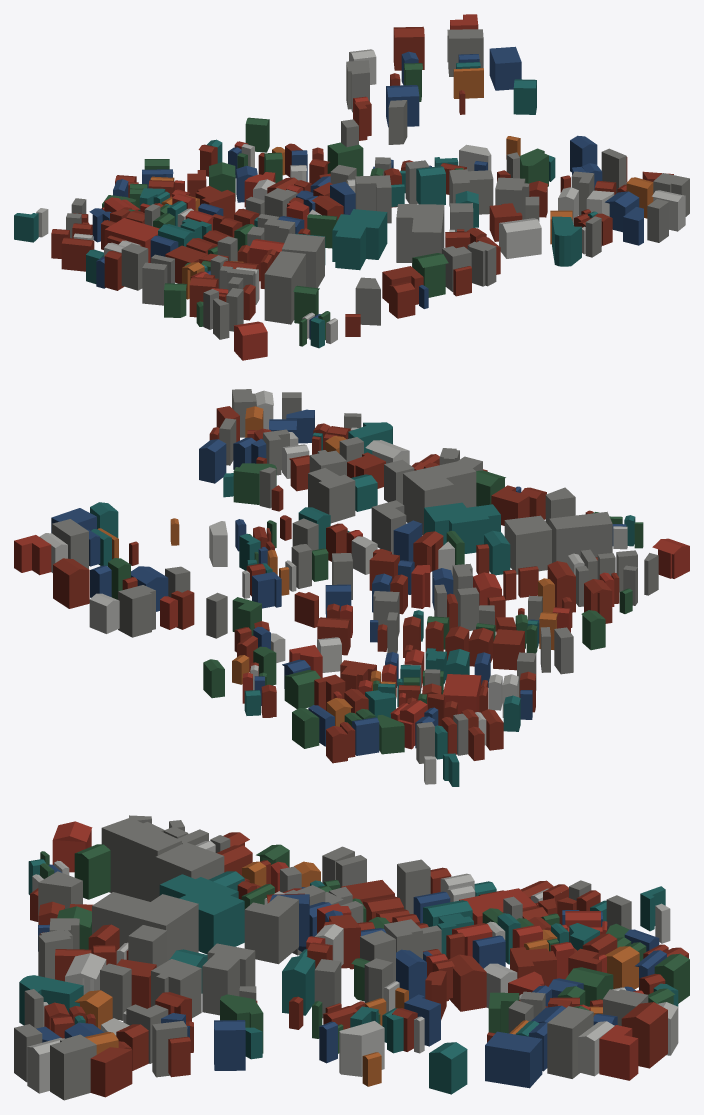
Rendered from near-17-109444-59471.4204a4bc.glb.
3 renders of one model, top to bottom at view 1: azimuth 30°, elevation 25°; view 2: azimuth 150°, elevation 25°; view 3: azimuth 270°, elevation 25°, orthographic. The views are drawn at different scales.
Bounding box in the file's own units: 308 × 85.4 × 301.
